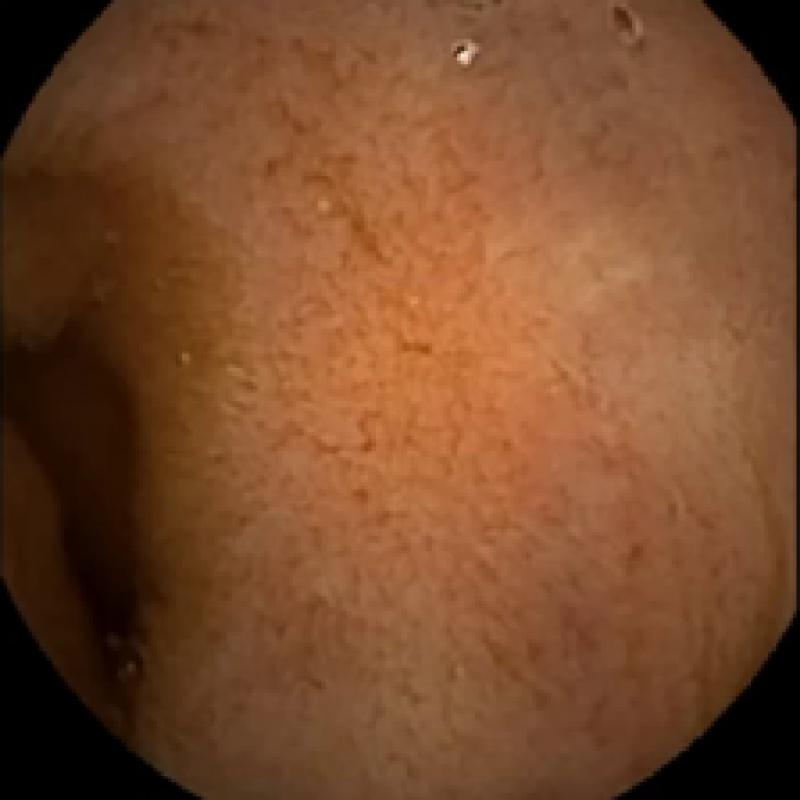bleeding: (0, 325, 143, 711)
